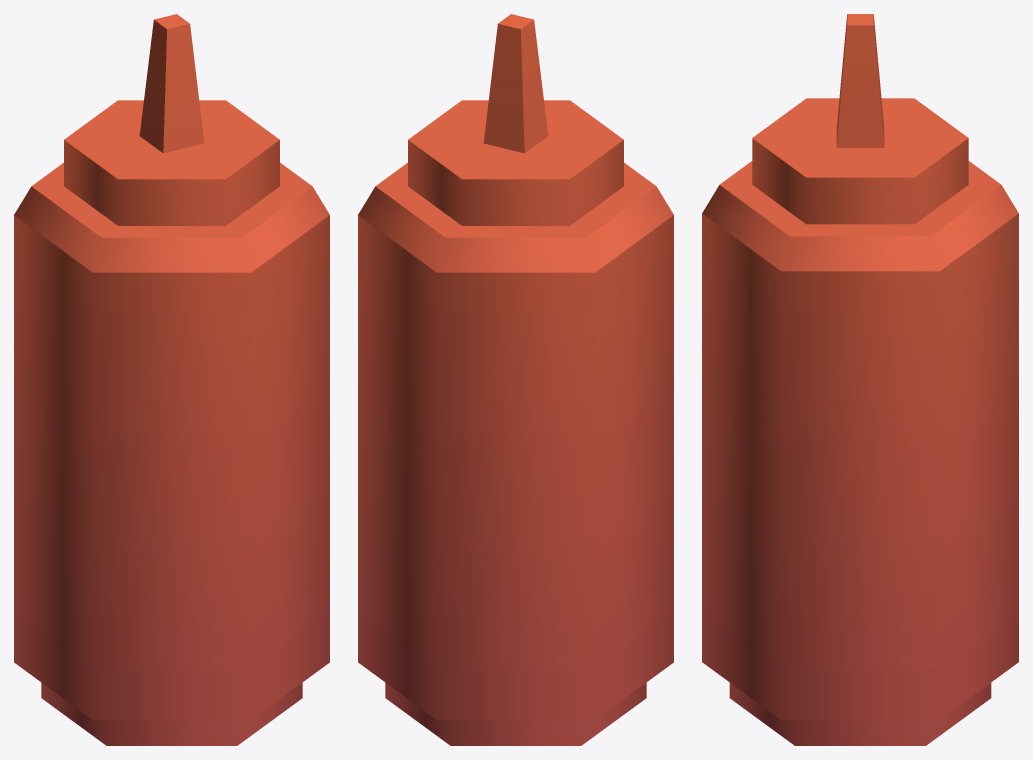
The model's file is food-bottle.glb.
3 renders of one model, left to right at view 1: azimuth 30°, elevation 25°; view 2: azimuth 150°, elevation 25°; view 3: azimuth 270°, elevation 25°, orthographic.
Parts seen in each view (by area): view 1: bottle-ketchup; view 2: bottle-ketchup; view 3: bottle-ketchup.
Part boxes in pixels (left/top/right/bottom): bottle-ketchup: left=14, top=14, right=329, bottom=745; bottle-ketchup: left=358, top=14, right=673, bottom=745; bottle-ketchup: left=702, top=14, right=1018, bottom=745.
Size of the model in its own units: 0.1441 by 0.3931 by 0.1664.
1 material, 1 textured.
